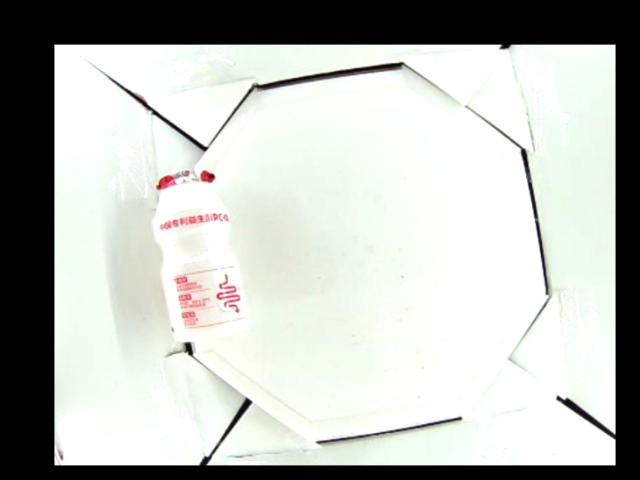Bottle: (153, 164, 249, 346)
